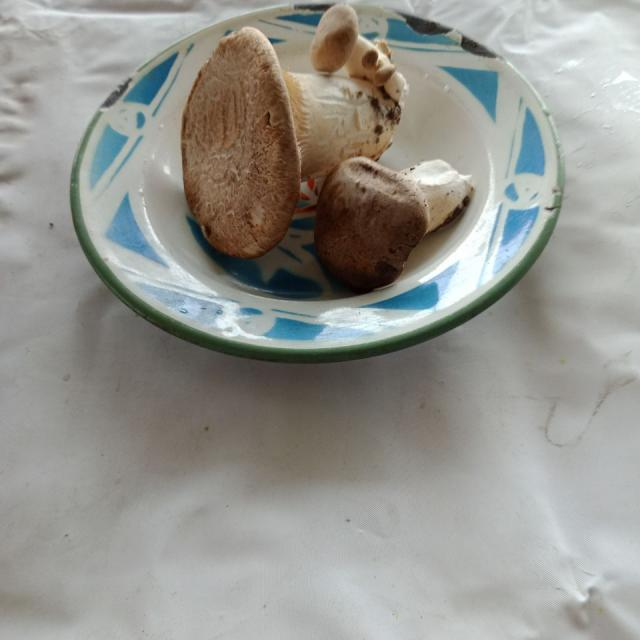Pleurotus cystidiosus: (183, 9, 406, 260), (316, 153, 470, 284)
